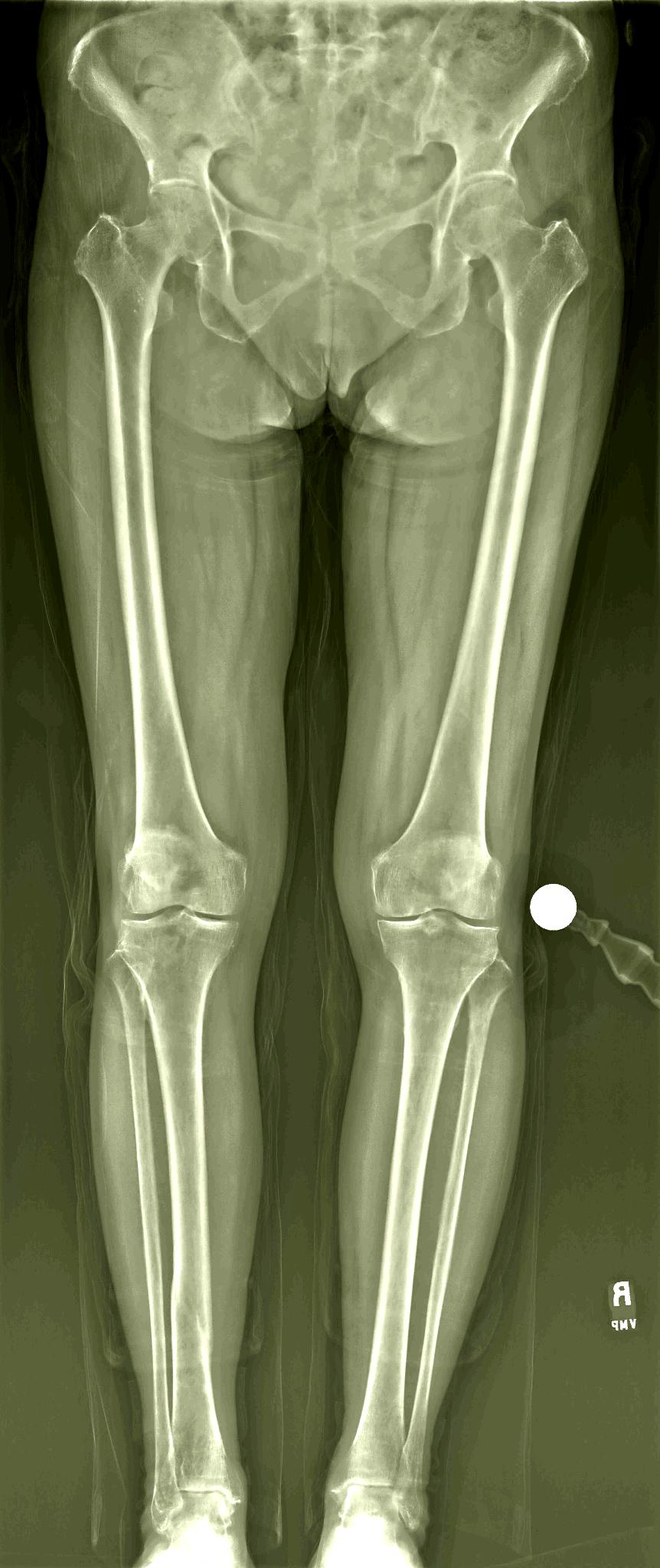Leg Fibula: (402, 958, 510, 1476), (111, 954, 182, 1535)
Leg Tibia: (348, 914, 497, 1483), (121, 911, 235, 1499)
femur: (373, 171, 588, 922), (75, 182, 244, 917)
